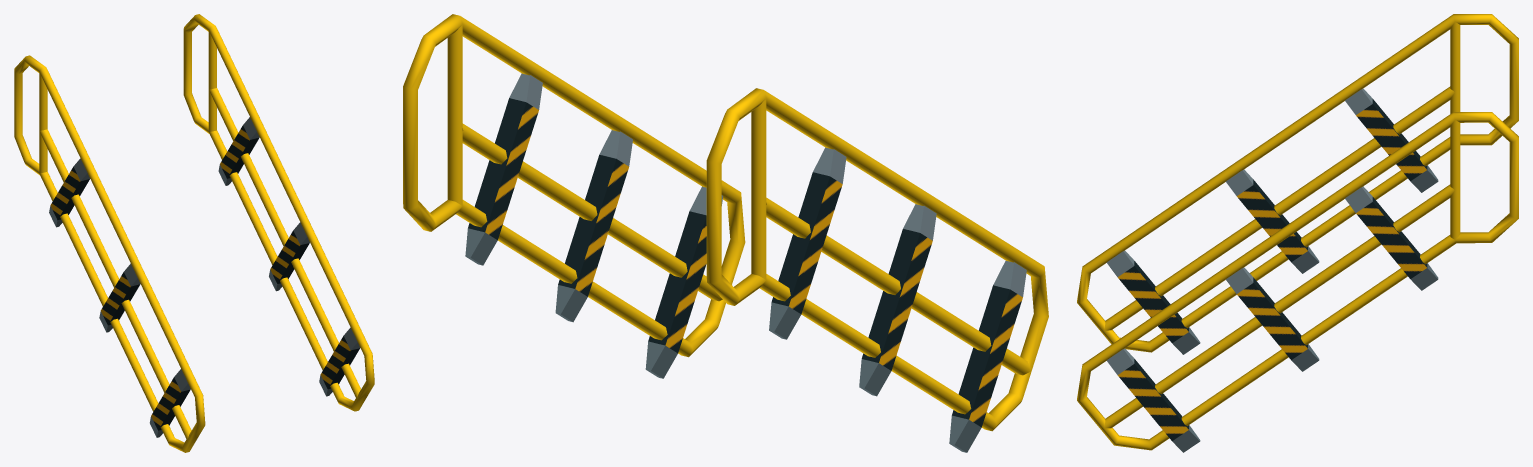
The model's file is Stair_type_C_fence_003.fbx.
3 views of the same model, side by side, from view 1: azimuth 30°, elevation 25°; view 2: azimuth 150°, elevation 25°; view 3: azimuth 270°, elevation 25° (orthographic). The views are drawn at different scales.
Visible parts, largest first — view 1: Stair_type_C_fence_003; view 2: Stair_type_C_fence_003; view 3: Stair_type_C_fence_003.
Part boxes in pixels (left/top/right/bottom): Stair_type_C_fence_003: left=14, top=14, right=374, bottom=452; Stair_type_C_fence_003: left=403, top=14, right=1048, bottom=452; Stair_type_C_fence_003: left=1077, top=14, right=1518, bottom=452.
Bounding box in the file's own units: 171 × 309 × 261.
